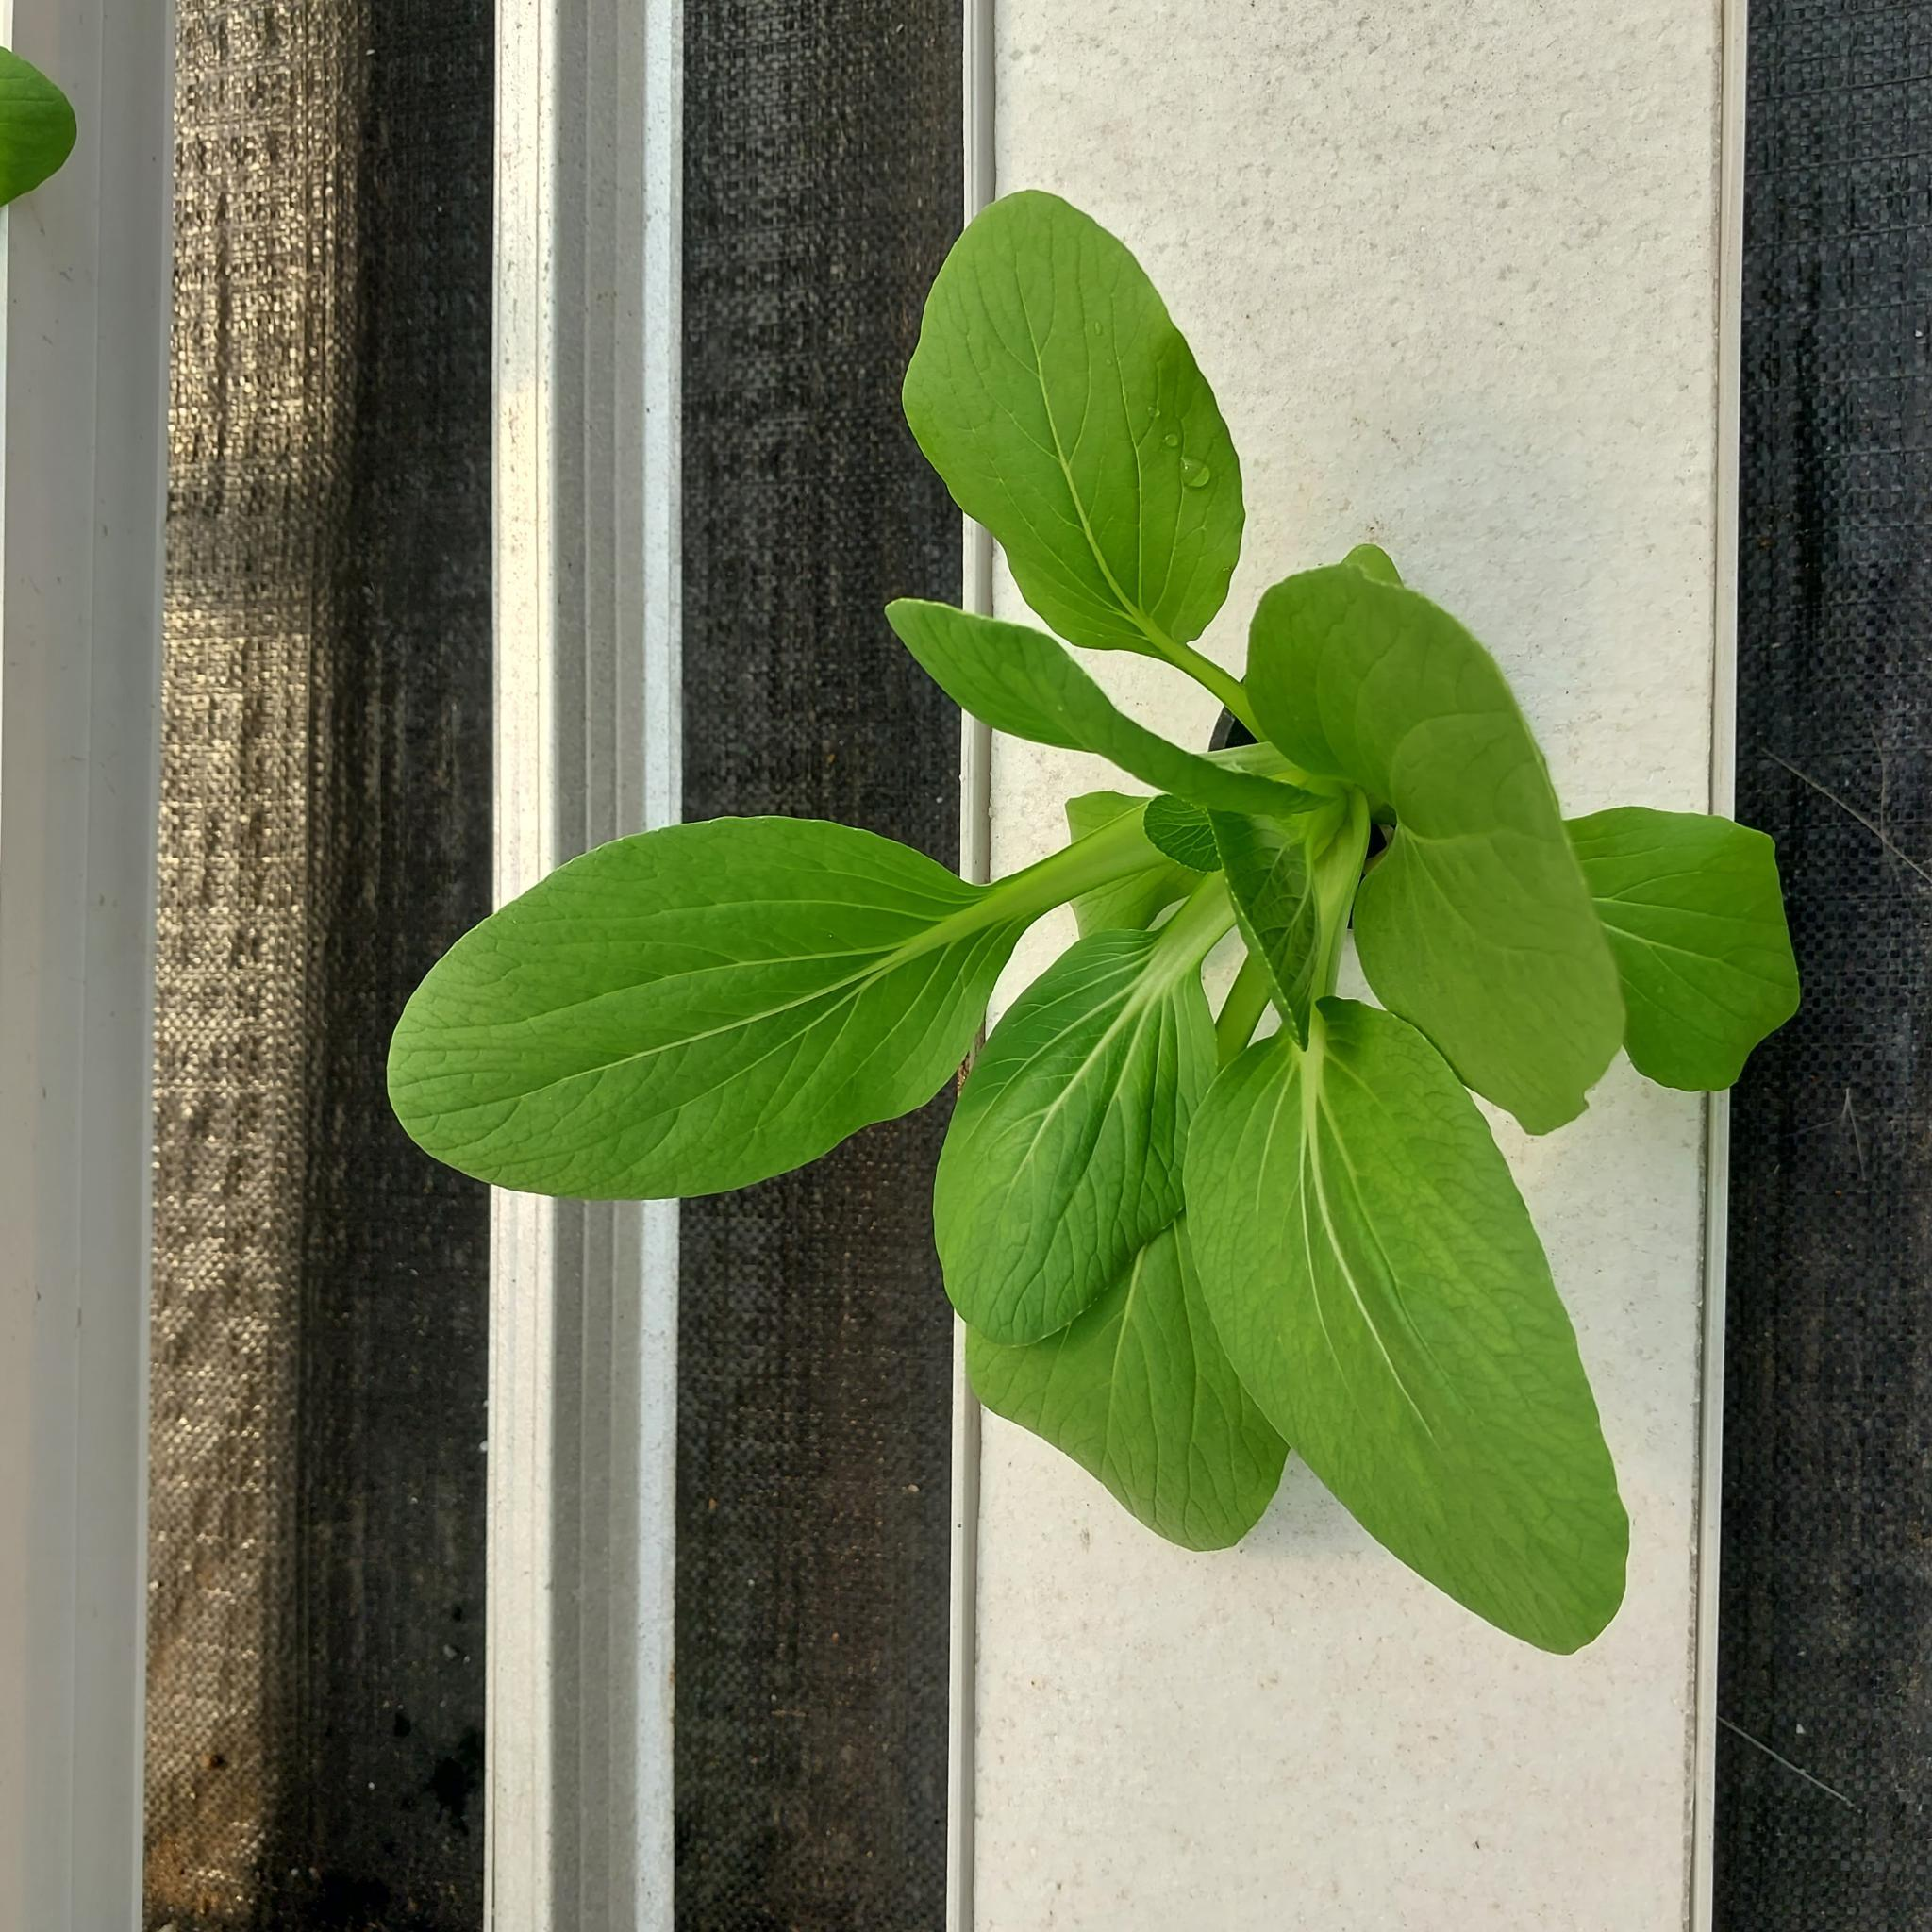Healthy-Pechay: (1178, 994, 1626, 1654), (379, 817, 1012, 1205), (1230, 556, 1645, 1118), (909, 182, 1228, 683), (950, 869, 1233, 1343), (970, 1155, 1265, 1550), (929, 600, 1322, 830), (1564, 807, 1803, 1092), (1238, 554, 1442, 803), (915, 798, 1212, 950), (1293, 1060, 1410, 1433), (423, 920, 851, 1012), (1256, 786, 1368, 1035), (554, 897, 931, 964)
